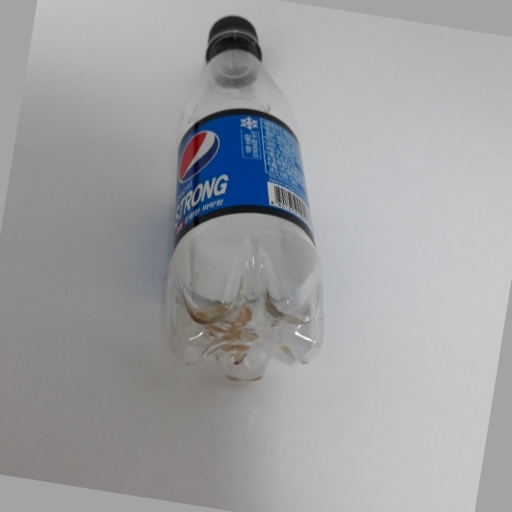Plastic_0: (166, 13, 328, 391)
